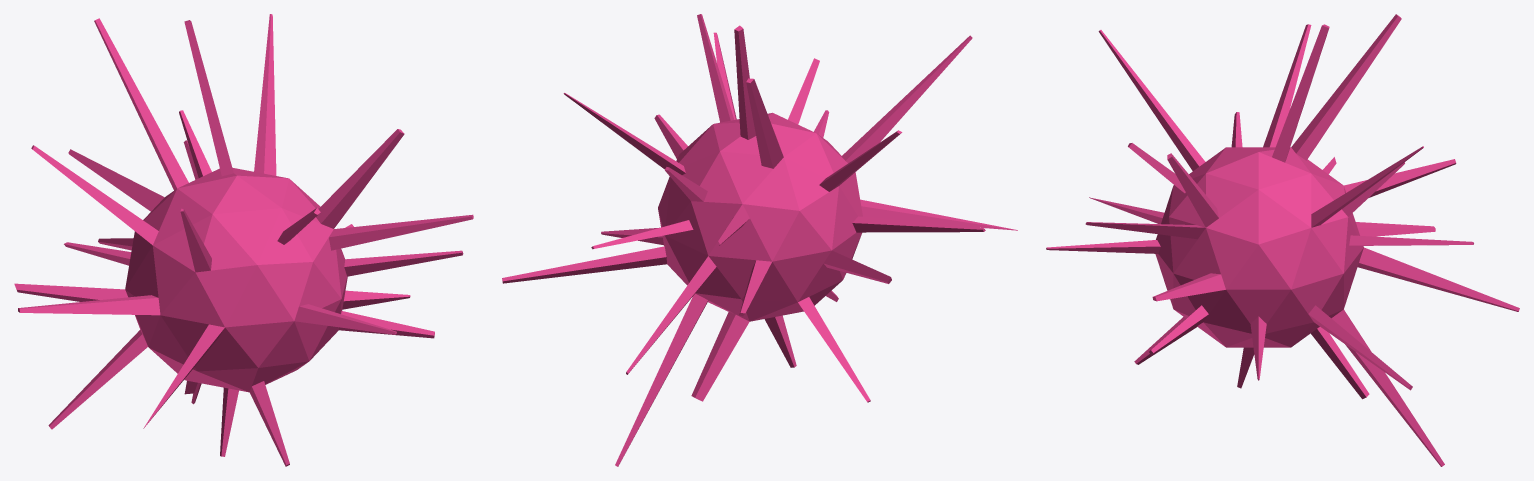
Rendered from spike.glb.
The picture shows the model from 3 angles, left to right: view 1: azimuth 30°, elevation 25°; view 2: azimuth 150°, elevation 25°; view 3: azimuth 270°, elevation 25°; orthographic projection. The views are drawn at different scales.
Visible parts, largest first — view 1: Icosphere; view 2: Icosphere; view 3: Icosphere.
Part boxes in pixels (bbox=[...]): Icosphere: bbox=[14, 14, 473, 466]; Icosphere: bbox=[502, 14, 1017, 466]; Icosphere: bbox=[1046, 14, 1519, 466].
Bounding box in the file's own units: 4.33 × 4.31 × 4.5.
